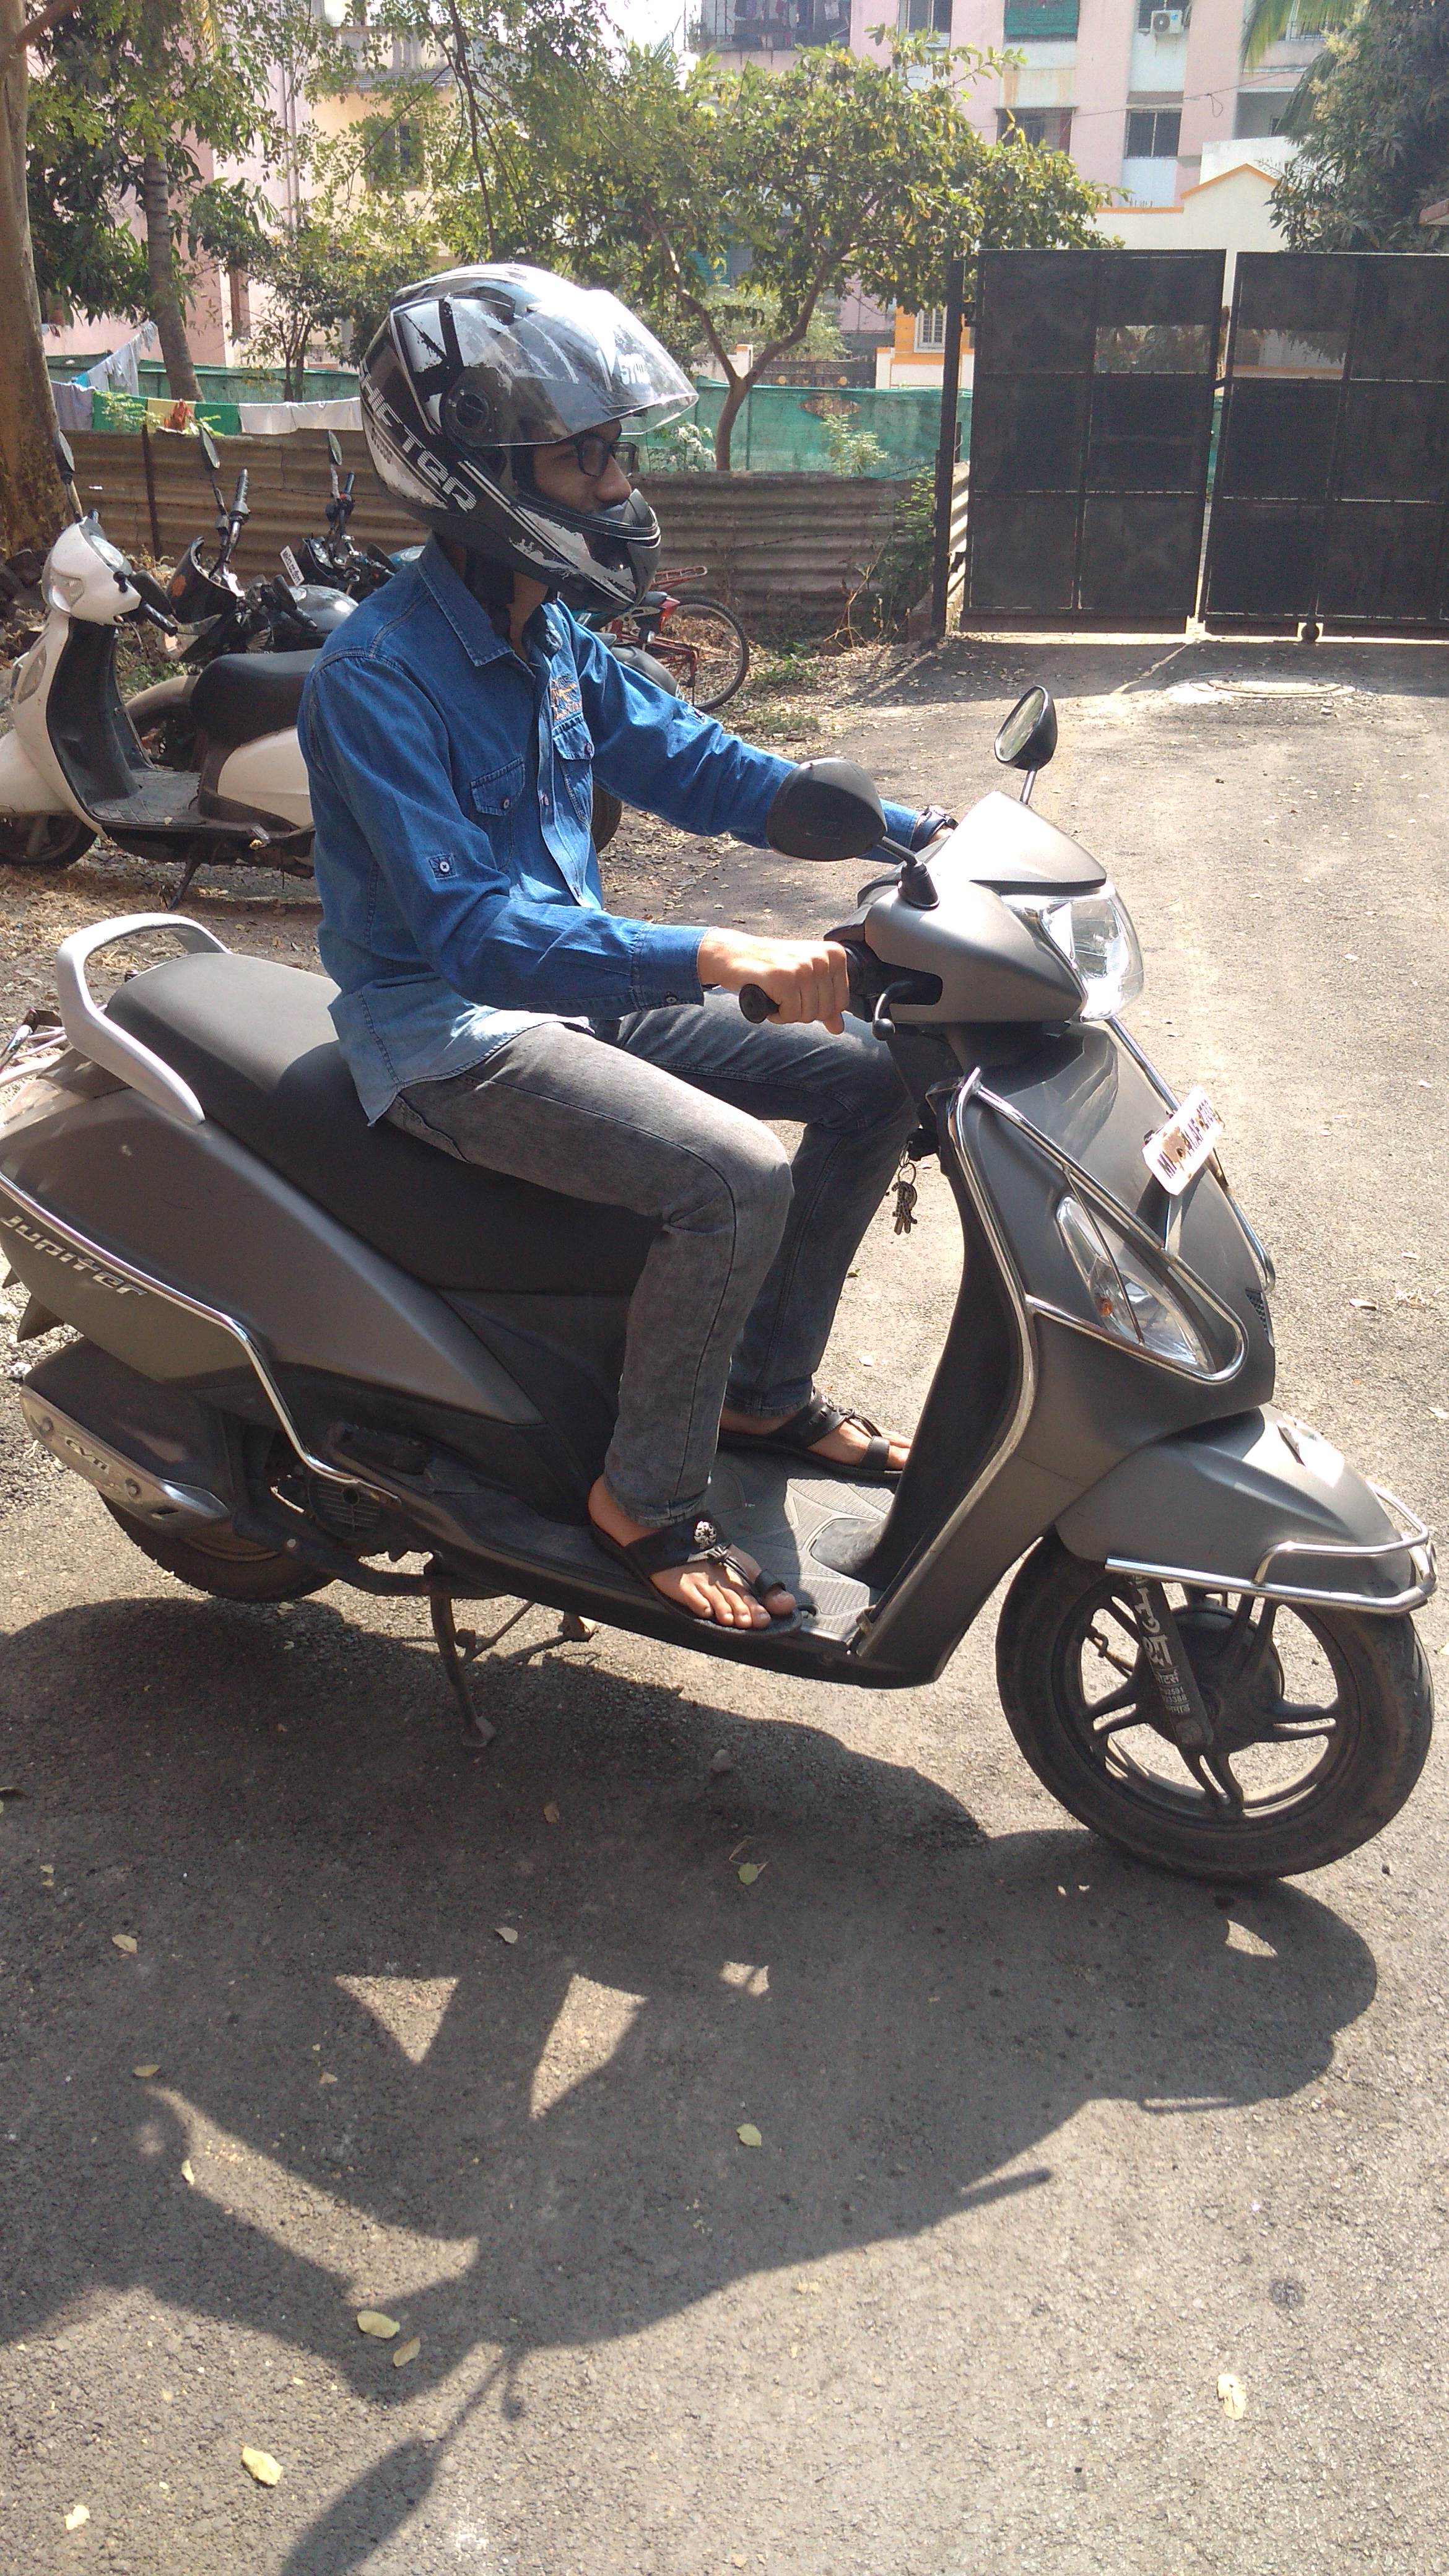helmet: (265, 239, 989, 1391)
